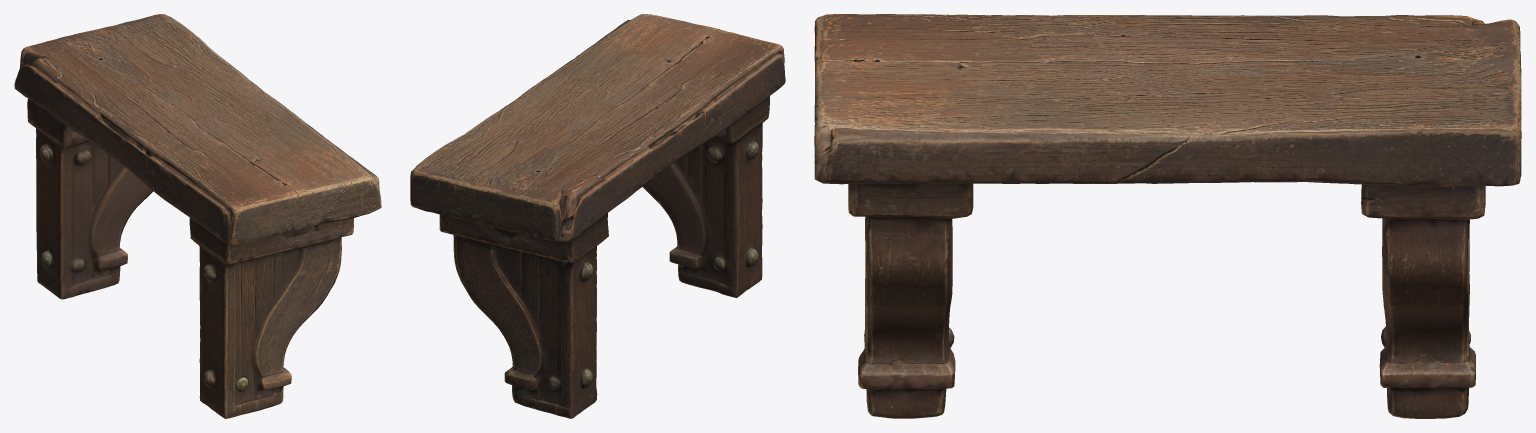
Rendered from Furn_WallShelf.fbx.
3 renders of one model, left to right at view 1: azimuth 30°, elevation 25°; view 2: azimuth 150°, elevation 25°; view 3: azimuth 270°, elevation 25°, orthographic. The views are drawn at different scales.
Visible parts, largest first — view 1: texture_mapping; view 2: texture_mapping; view 3: texture_mapping.
Part boxes in pixels (<box>): texture_mapping: <box>14,14,381,418</box>; texture_mapping: <box>410,14,785,418</box>; texture_mapping: <box>814,14,1521,418</box>.
Size of the model in its own units: 0.4089 by 0.9976 by 0.559.
1 material, 1 textured.
